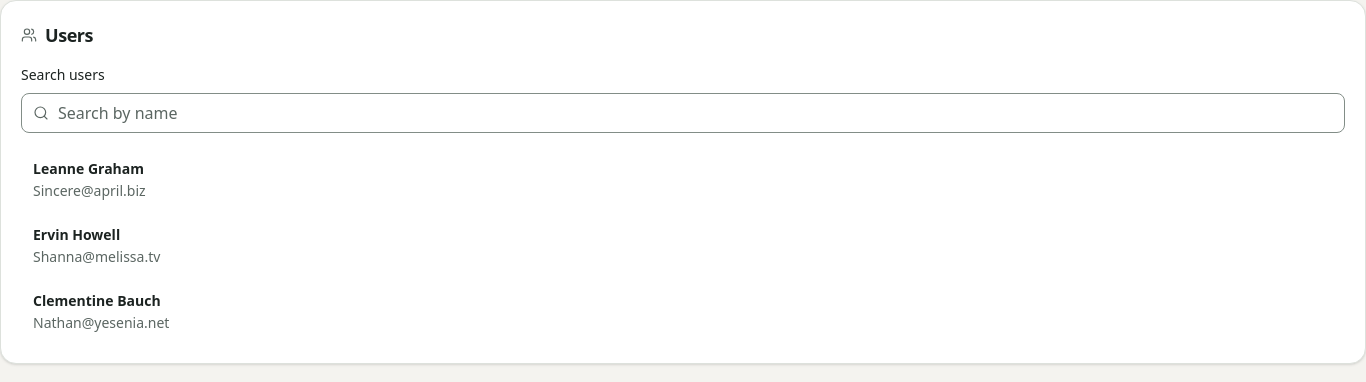
it: UserDirectory › shows an empty state when no users match the search
The image size is (1366, 382).
Check: the text "Leanne Graham" is shown, box [33,159,146,179]
Type "nobody" into the search field labelled "Search users" at (683, 113), box [21,93,1345,133]
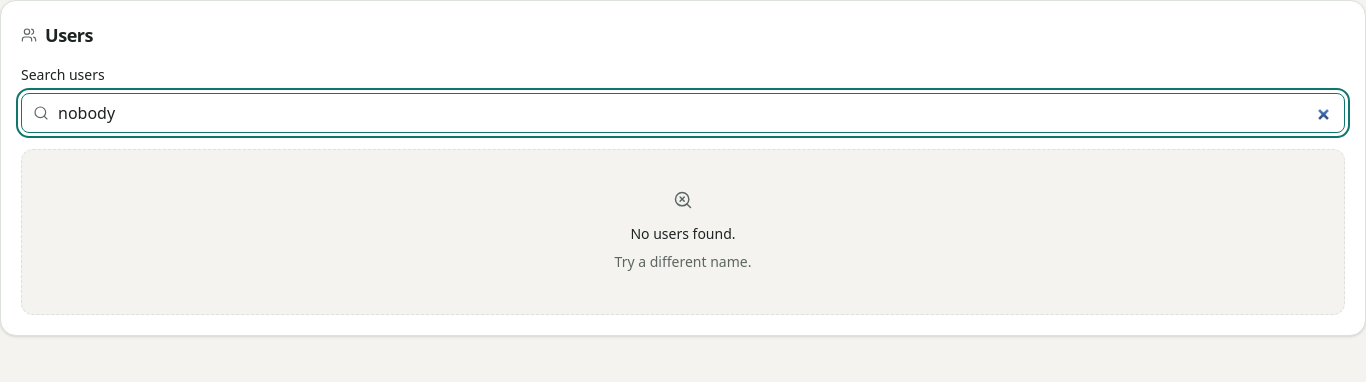
Check: the message shows "No users found.", box [630,224,736,243]
Check: the list is gone
